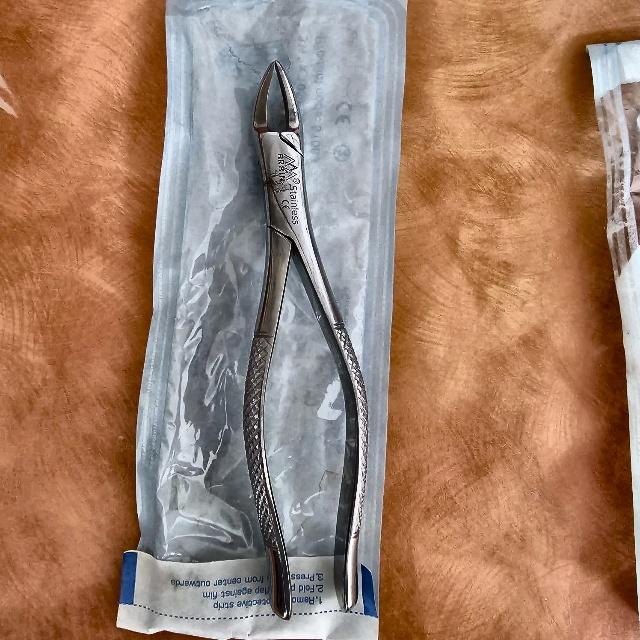forceps: (243, 62, 369, 620)
